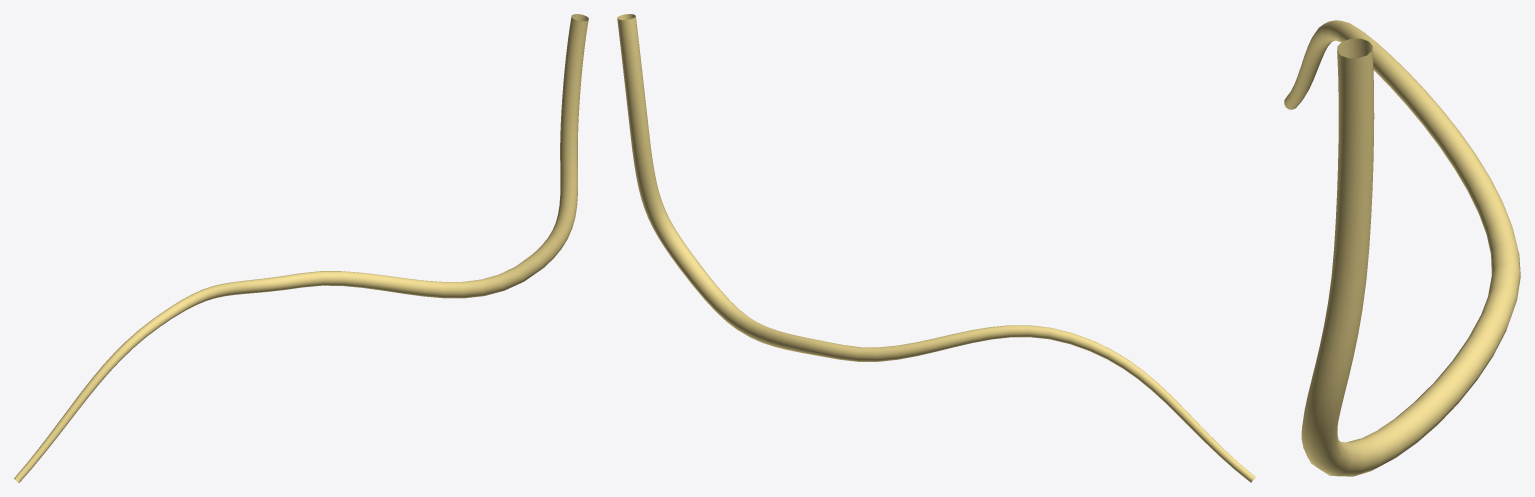
The picture shows the model from 3 angles, left to right: view 1: azimuth 30°, elevation 25°; view 2: azimuth 150°, elevation 25°; view 3: azimuth 270°, elevation 25°; orthographic projection. The views are drawn at different scales.
Parts seen in each view (by area): view 1: ZA_2beb20c290d1d409; view 2: ZA_2beb20c290d1d409; view 3: ZA_2beb20c290d1d409.
Boxes of the visible parts, x1,y1,x2,y2 form: ZA_2beb20c290d1d409: [14, 14, 588, 482]; ZA_2beb20c290d1d409: [617, 14, 1255, 482]; ZA_2beb20c290d1d409: [1284, 20, 1520, 476].
Bounding box in the file's own units: 0.0375 × 0.0191 × 0.00653.
